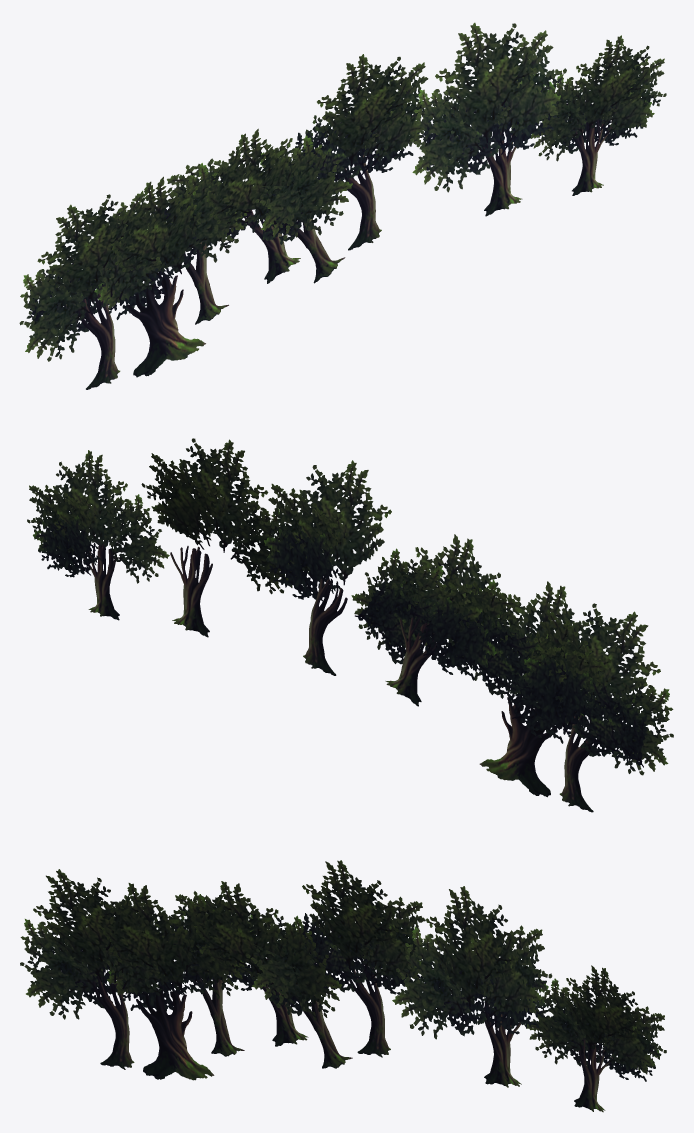
The model's file is Castle Tower_Trees BG.FBX.
3 renders of one model, top to bottom at view 1: azimuth 30°, elevation 25°; view 2: azimuth 150°, elevation 25°; view 3: azimuth 330°, elevation 25°, orthographic. The views are drawn at different scales.
Visible parts, largest first — view 1: Trees BG; view 2: Trees BG; view 3: Trees BG.
Boxes of the visible parts, bbox=[...] form: Trees BG: bbox=[19, 22, 666, 389]; Trees BG: bbox=[27, 438, 673, 812]; Trees BG: bbox=[20, 860, 666, 1112].
Bounding box in the file's own units: 4003 × 218 × 1711.
